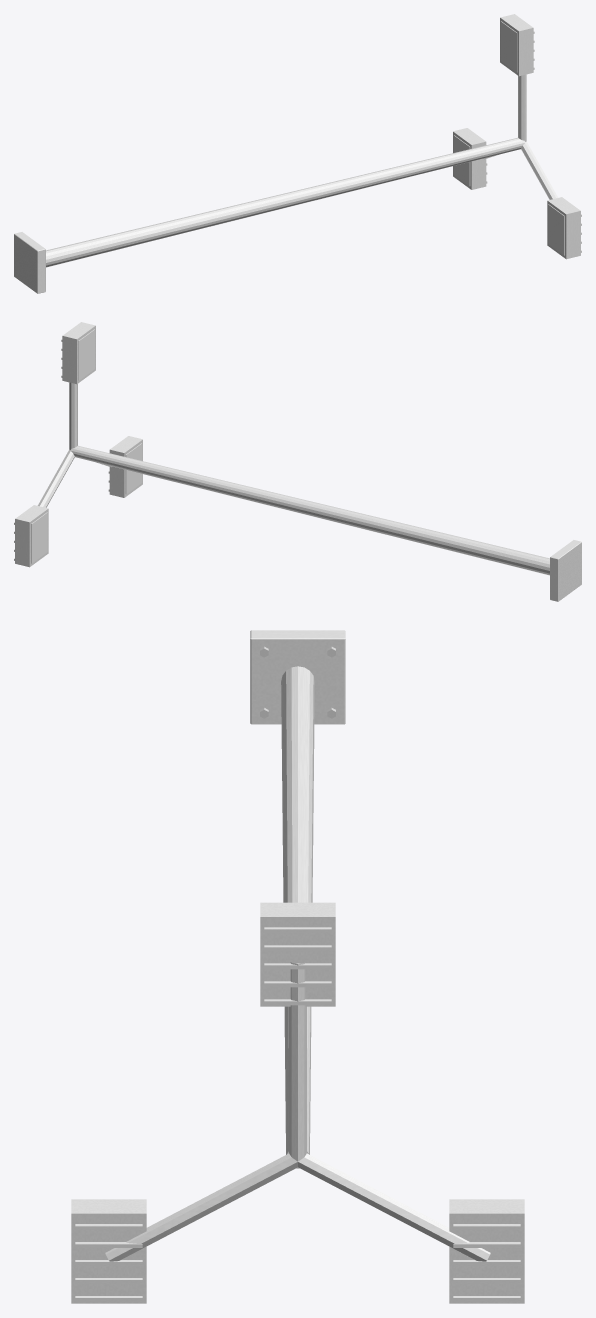
The model's file is triarmparkinglight.obj.
3 renders of one model, top to bottom at view 1: azimuth 30°, elevation 25°; view 2: azimuth 150°, elevation 25°; view 3: azimuth 270°, elevation 25°, orthographic. The views are drawn at different scales.
Visible parts, largest first — view 1: Metal, Base, Head1Metal, Head0Metal, Head2Metal, Light1, Light0, Light2; view 2: Metal, Base, Head2Metal, Head0Metal, Head1Metal, Light2, Light0, Light1; view 3: Metal, Base, Head0Metal, Head1Metal, Head2Metal, Head0Trim, Head1Trim, Head2Trim.
Part boxes in pixels (box(x1,y1,x2,y2)): Metal: box(46, 74, 558, 267); Base: box(14, 232, 45, 293); Head1Metal: box(547, 197, 580, 259); Head0Metal: box(500, 14, 533, 76); Head2Metal: box(453, 128, 486, 189); Light1: box(548, 204, 564, 255); Light0: box(501, 21, 517, 72); Light2: box(453, 135, 470, 186); Metal: box(37, 382, 549, 575); Base: box(550, 540, 581, 601); Head2Metal: box(15, 505, 48, 567); Head0Metal: box(62, 322, 95, 384); Head1Metal: box(109, 436, 142, 497); Light2: box(31, 512, 47, 563); Light0: box(78, 329, 94, 380); Light1: box(125, 443, 142, 494); Metal: box(105, 666, 490, 1261); Base: box(250, 630, 345, 724); Head0Metal: box(260, 902, 335, 1006); Head1Metal: box(71, 1199, 146, 1303); Head2Metal: box(449, 1199, 524, 1303); Head0Trim: box(264, 927, 331, 1005); Head1Trim: box(75, 1224, 142, 1301); Head2Trim: box(453, 1224, 520, 1301).
Bounding box in the file's own units: 5.82 × 2.15 × 2.29.
